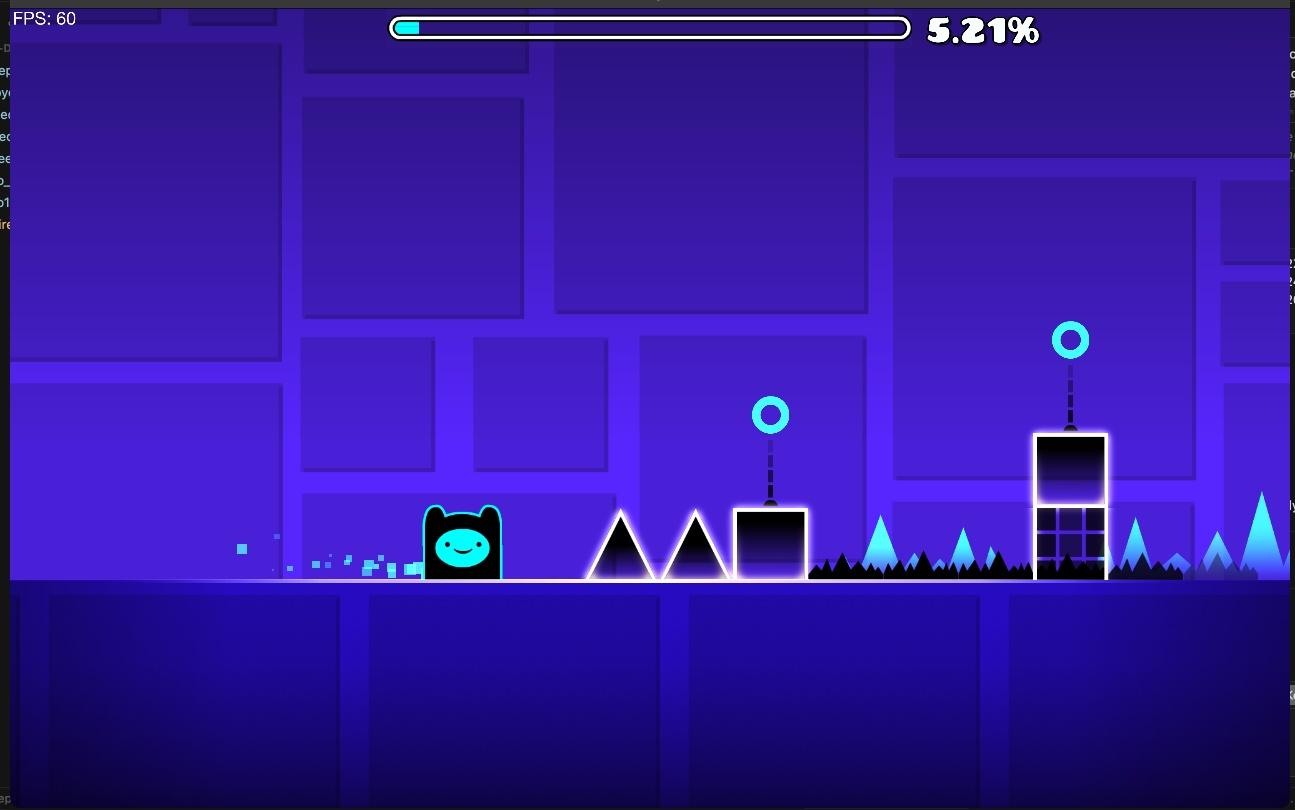block: (11, 581, 1289, 810), (1033, 433, 1109, 582), (739, 510, 806, 578)
player: (423, 505, 502, 578)
spike: (1110, 493, 1288, 578), (811, 518, 1029, 578), (586, 510, 729, 578)
